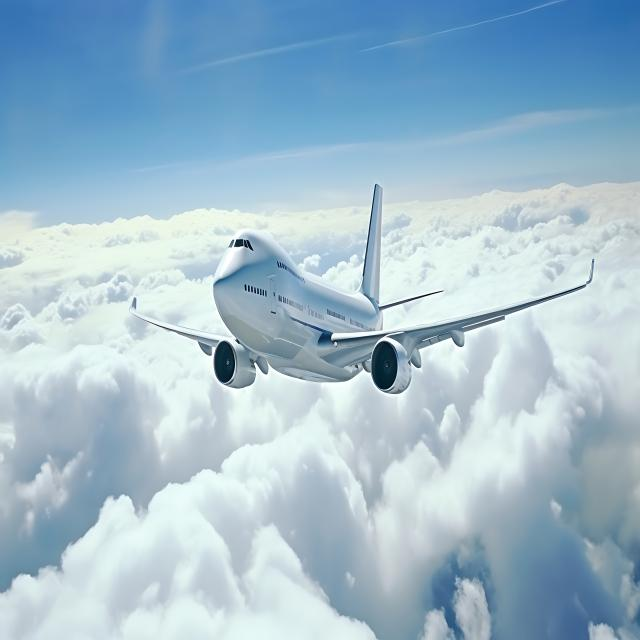plain: (130, 171, 601, 408)
